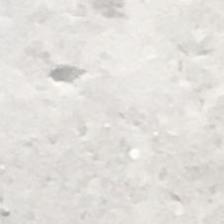Non_Crack: (9, 14, 224, 200)
